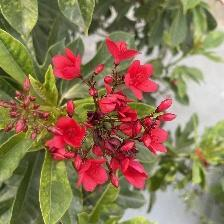jatropha: (124, 59, 161, 98)
